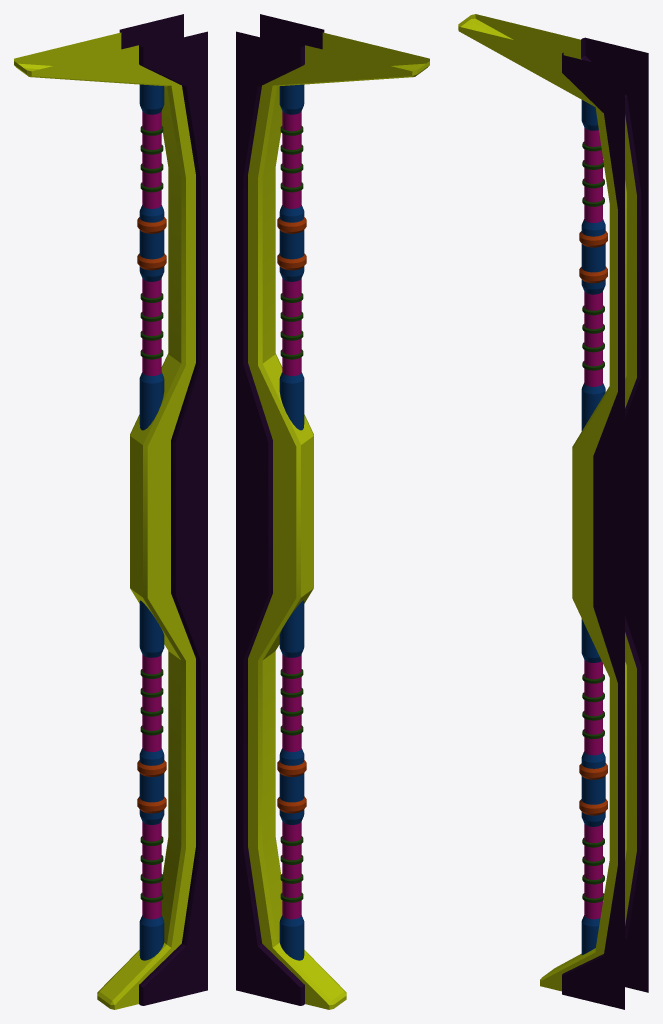
File: OBJ_Pillier.fbx
3 renders of one model, left to right at view 1: azimuth 30°, elevation 25°; view 2: azimuth 150°, elevation 25°; view 3: azimuth 330°, elevation 25°, orthographic. The views are drawn at different scales.
Visible parts, largest first — view 1: OBJ_Pillier; view 2: OBJ_Pillier; view 3: OBJ_Pillier.
Part boxes in pixels (x1=…): OBJ_Pillier: x1=14, y1=14, x2=207, y2=1009; OBJ_Pillier: x1=236, y1=14, x2=429, y2=1009; OBJ_Pillier: x1=458, y1=14, x2=648, y2=1009.
Size of the model in its own units: 58.41 by 305 by 13.76.
